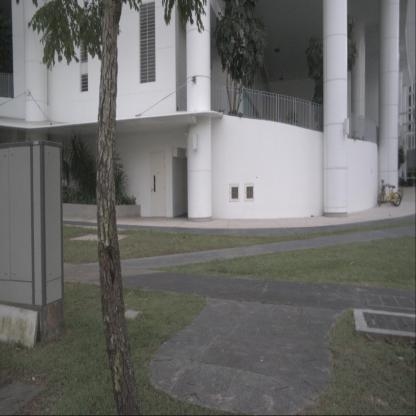human-pedestrian-adult: (402, 170, 404, 187)
vehicle-bicycle: (377, 178, 402, 208), (380, 176, 403, 201)
